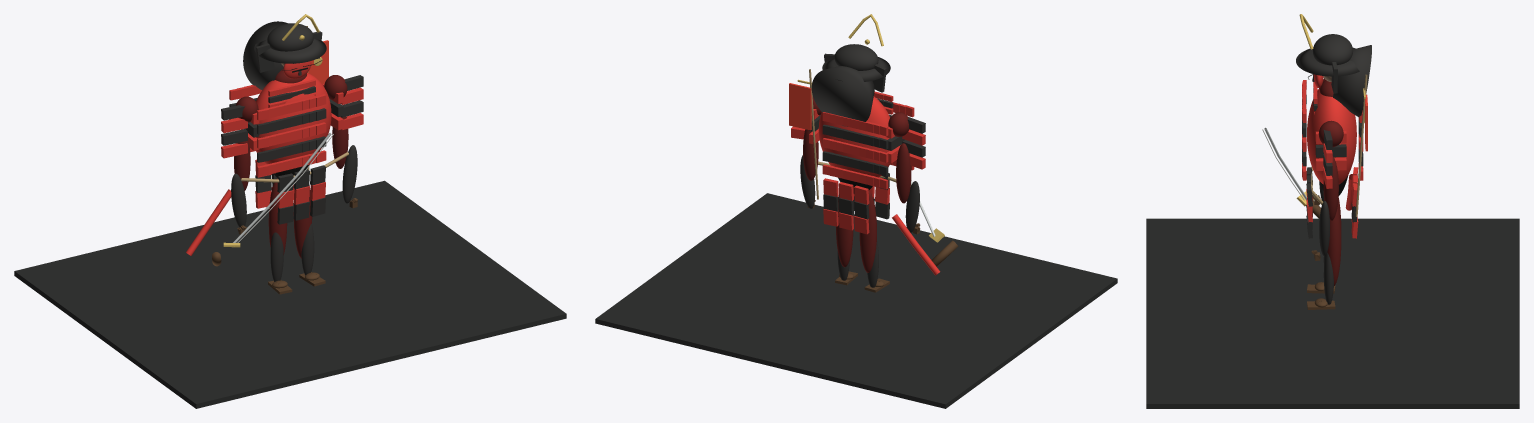
The model's file is samurai_character.glb.
3 renders of one model, left to right at view 1: azimuth 30°, elevation 25°; view 2: azimuth 150°, elevation 25°; view 3: azimuth 270°, elevation 25°, orthographic. The views are drawn at different scales.
Visible parts, largest first — view 1: matte charcoal inspection plinth, rounded do cuirass silhouette, rear shikoro neck guard flare, segmented kabuto helmet bowl, wide kabuto brim, right kote forearm guard, left kote forearm guard, left hakama trouser leg, left shin greave, lacquered saya scabbard at left hip, right armored upper arm, right shin greave; view 2: matte charcoal inspection plinth, rear shikoro neck guard flare, rounded do cuirass silhouette, cloth sashimono banner panel, segmented kabuto helmet bowl, left hakama trouser leg, left armored upper arm, right hakama trouser leg, right armored upper arm, left kote forearm guard, lacquered saya scabbard at left hip; view 3: matte charcoal inspection plinth, rounded do cuirass silhouette, rear shikoro neck guard flare, segmented kabuto helmet bowl, wide kabuto brim, right hakama trouser leg, right armored upper arm, right kote forearm guard, right shin greave, right shoulder undercloth, bamboo sashimono back pole.
Part boxes in pixels (x1,y1,x2,y2): matte charcoal inspection plinth: (14,180,566,408); rounded do cuirass silhouette: (256,73,331,164); rear shikoro neck guard flare: (243,21,287,89); segmented kabuto helmet bowl: (267,23,313,51); wide kabuto brim: (254,38,326,63); right kote forearm guard: (342,145,357,203); left kote forearm guard: (231,173,246,227); left hakama trouser leg: (268,178,287,254); left shin greave: (270,232,283,281); lacquered saya scabbard at left hip: (186,189,231,255); right armored upper arm: (332,116,348,168); right shin greave: (301,223,314,275); matte charcoal inspection plinth: (595,193,1117,408); rear shikoro neck guard flare: (811,66,874,126); rounded do cuirass silhouette: (818,96,890,177); cloth sashimono banner panel: (789,83,811,130); segmented kabuto helmet bowl: (834,44,878,70); left hakama trouser leg: (859,191,876,272); left armored upper arm: (896,143,911,203); right hakama trouser leg: (836,194,853,267); right armored upper arm: (803,129,818,180); left kote forearm guard: (905,181,919,232); lacquered saya scabbard at left hip: (892,214,940,275); matte charcoal inspection plinth: (1146,218,1519,408); rounded do cuirass silhouette: (1307,88,1356,184); rear shikoro neck guard flare: (1333,45,1371,117); segmented kabuto helmet bowl: (1313,34,1352,65); wide kabuto brim: (1296,47,1359,76); right hakama trouser leg: (1327,206,1341,285); right armored upper arm: (1323,156,1338,220); right kote forearm guard: (1319,201,1329,256); right shin greave: (1323,252,1333,304); right shoulder undercloth: (1318,120,1343,147); bamboo sashimono back pole: (1355,74,1367,216).
Bounding box in the file's own units: 4 × 3.04 × 3.4.
